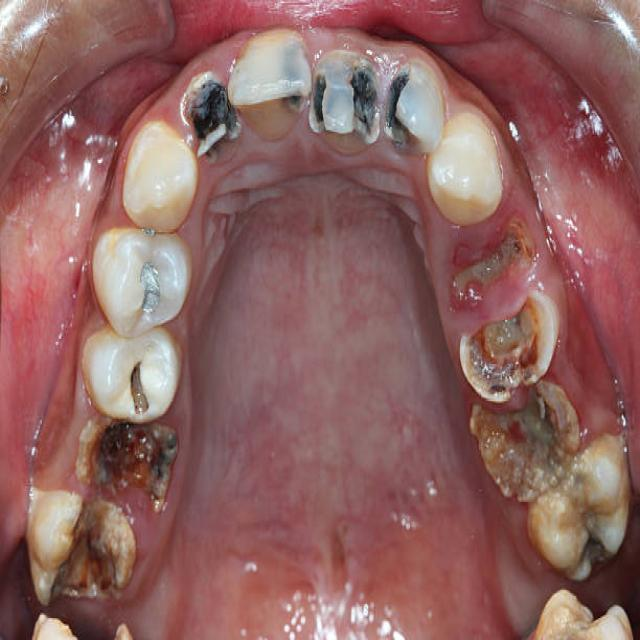caries: (472, 380, 585, 504), (36, 502, 140, 610), (77, 412, 188, 510), (456, 298, 560, 398), (312, 44, 384, 156), (449, 218, 533, 299), (180, 70, 244, 163), (381, 65, 436, 162), (556, 511, 609, 598), (270, 48, 313, 128), (121, 250, 167, 323), (117, 344, 149, 408)
